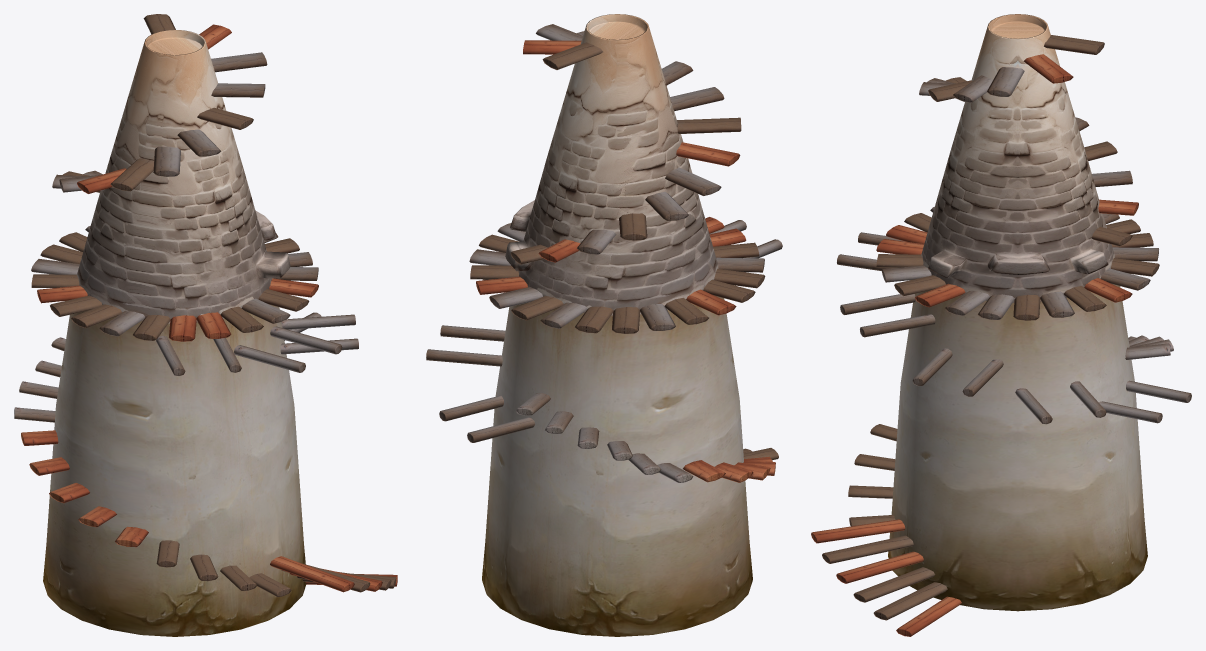
Rendered from tower 2.fbx.
3 views of the same model, side by side, from view 1: azimuth 30°, elevation 25°; view 2: azimuth 150°, elevation 25°; view 3: azimuth 270°, elevation 25° (orthographic). The views are drawn at different scales.
Parts seen in each view (by area): view 1: tower_lev_tower1, pCube28, pCube27, pCube10, pCube29, pCube61, pCube62, pCube66, pCube65, pCube64, pCube63, pCube45 (+15 smaller); view 2: tower_lev_tower1, pCube26, pCube25, pCube61, pCube60, pCube68, pCube59, pCube62, pCube58, pCube67, pCube36, pCube37 (+19 smaller); view 3: tower_lev_tower1, pCube28, pCube25, pCube27, pCube10, pCube9, pCube8, pCube26, pCube7, pCube6, pCube5, pCube29 (+23 smaller).
Part boxes in pixels (x1,y1,x2,y2): tower_lev_tower1: (43, 29, 306, 636); pCube28: (234, 326, 342, 372); pCube27: (280, 314, 358, 354); pCube10: (270, 556, 354, 592); pCube29: (156, 336, 241, 375); pCube61: (110, 158, 153, 191); pCube62: (153, 146, 180, 176); pCube66: (211, 52, 267, 72); pCube65: (211, 83, 265, 97); pCube64: (197, 107, 253, 129); pCube63: (177, 129, 220, 156); pCube45: (71, 304, 121, 328); tower_lev_tower1: (482, 14, 752, 636); pCube26: (426, 325, 505, 366); pCube25: (439, 395, 534, 442); pCube61: (677, 117, 741, 133); pCube60: (676, 142, 740, 166); pCube68: (542, 42, 602, 69); pCube59: (665, 167, 721, 195); pCube62: (670, 87, 724, 111); pCube58: (645, 191, 688, 220); pCube67: (523, 40, 581, 54); pCube36: (489, 287, 542, 308); pCube37: (511, 296, 563, 320); tower_lev_tower1: (888, 14, 1147, 611); pCube28: (840, 294, 935, 337); pCube25: (1099, 380, 1191, 423); pCube27: (912, 348, 1003, 396); pCube10: (811, 519, 905, 543); pCube9: (822, 535, 913, 563); pCube8: (836, 551, 923, 583); pCube26: (1015, 381, 1106, 424); pCube7: (853, 567, 935, 602); pCube6: (873, 582, 947, 620); pCube5: (896, 596, 961, 636); pCube29: (837, 232, 904, 271).
Bounding box in the file's own units: 30.83 × 52.47 × 34.15.
